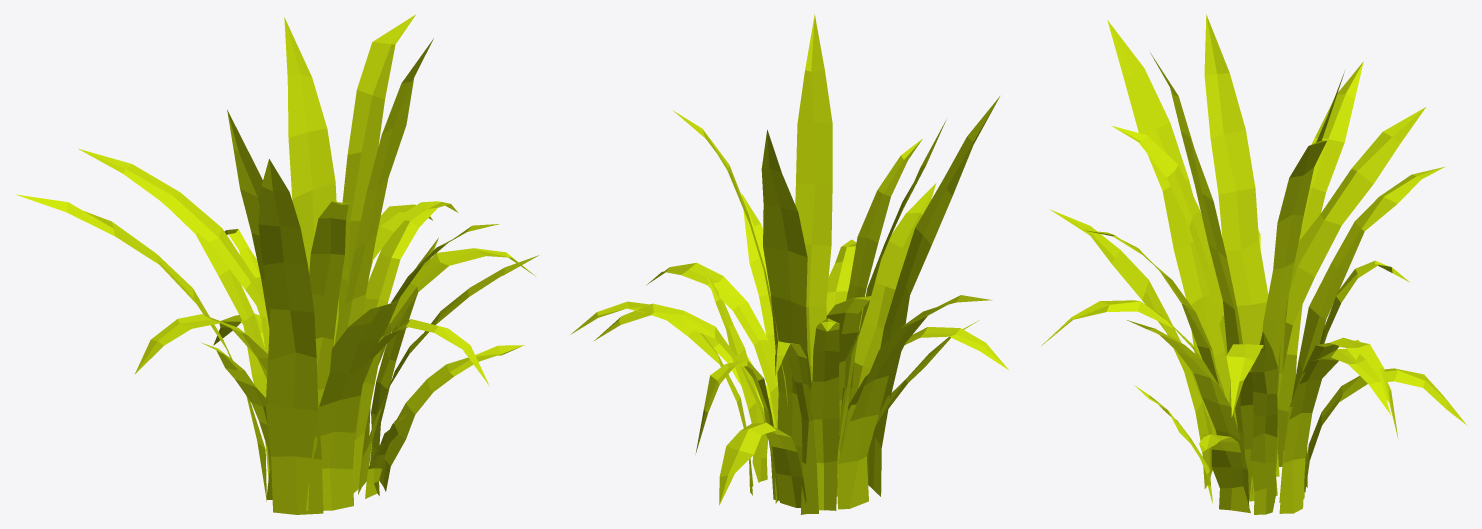
Rendered from bushhhhh.fbx.
3 renders of one model, left to right at view 1: azimuth 30°, elevation 25°; view 2: azimuth 150°, elevation 25°; view 3: azimuth 270°, elevation 25°, orthographic. The views are drawn at different scales.
Parts seen in each view (by area): view 1: Plane.023; view 2: Plane.023; view 3: Plane.023.
Boxes of the visible parts, <box> form: Plane.023: <box>15,14,538,514</box>; Plane.023: <box>570,14,1008,514</box>; Plane.023: <box>1041,14,1467,514</box>.
Bounding box in the file's own units: 214 × 216 × 179.
